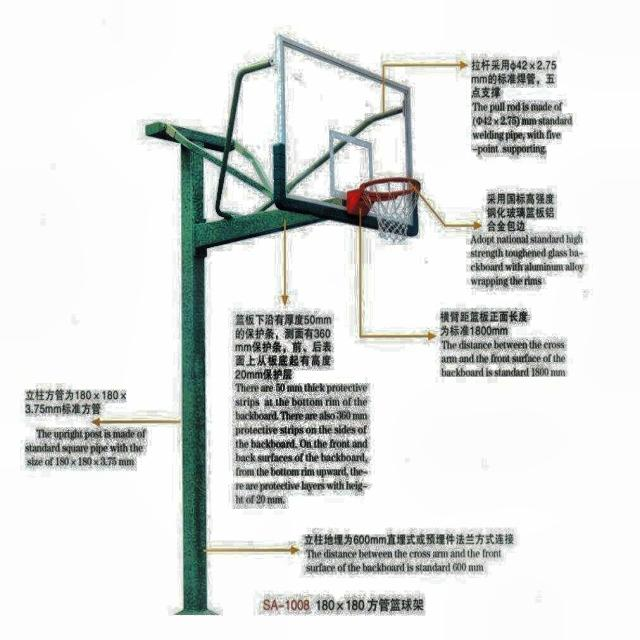rim: (360, 178, 422, 245)
